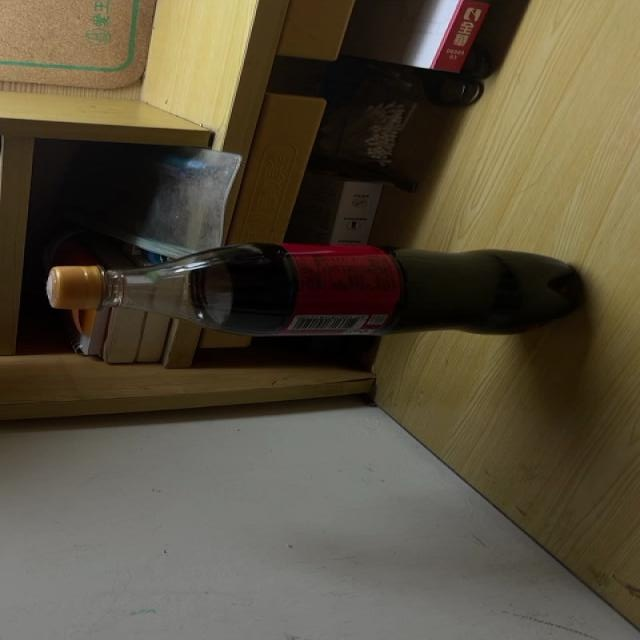Coca-Cola: (45, 243, 582, 337)
